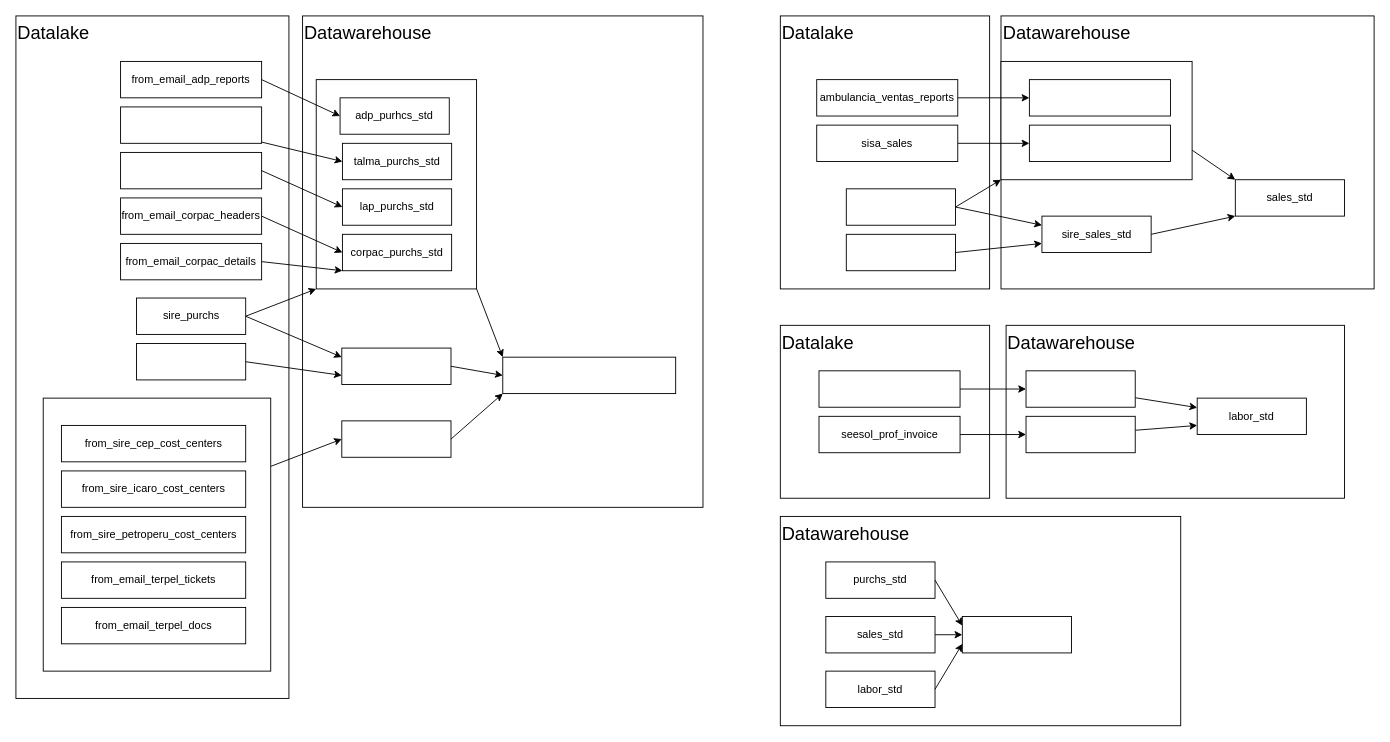
Image size: 1390x742. Some labels were removed from this diagram. Each missing label, with the centre of its shape:
"ambulancia_ventas_std" goes at pixel 1099 97.
"cost_centers_purchs" goes at pixel 396 438.
"from_email_lap_reports" goes at pixel 191 170.
"from_email_talma_reports" goes at pixel 191 124.
"moves" goes at pixel 1016 634.
"payroll_reports" goes at pixel 889 388.
"payroll_std" goes at pixel 1080 388.
"prof_invoice_std" goes at pixel 1080 434.
"purchs_without_accounts_std" goes at pixel 589 375.
"sire_purchs_details" goes at pixel 191 361.
"sire_purchs_std" goes at pixel 396 365.
"sire_sales" goes at pixel 900 206.
"sire_sales_details" goes at pixel 900 252.
"sisa_sales_std" goes at pixel 1099 143.
